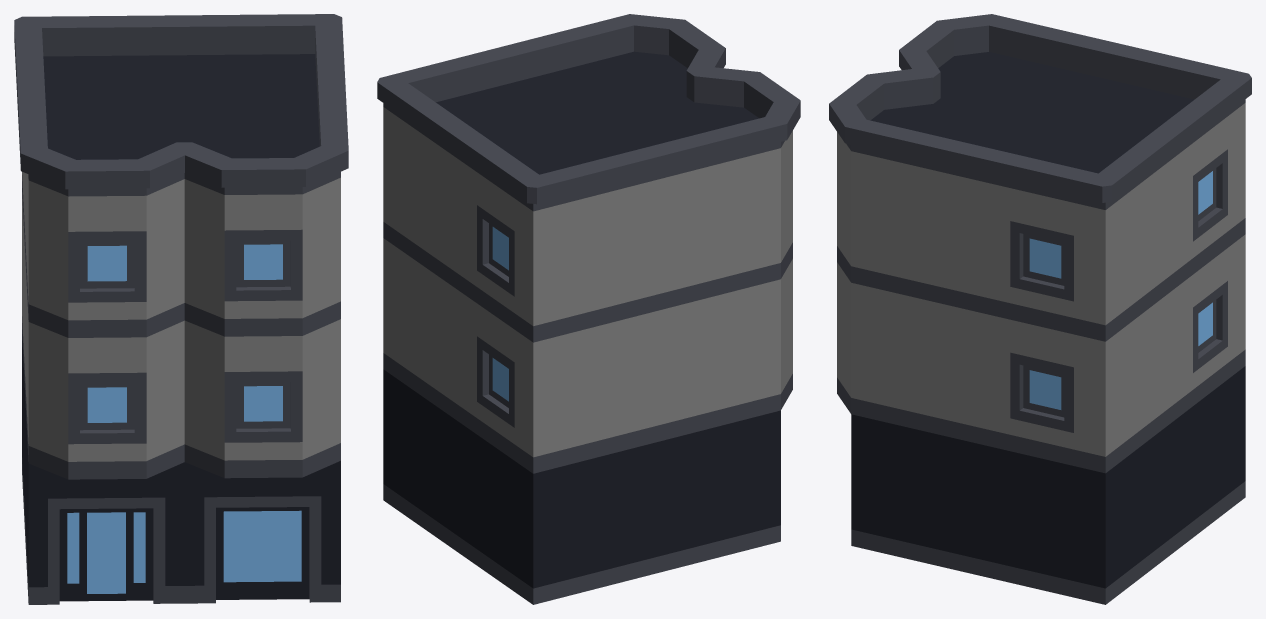
File: variant_21.obj
The picture shows the model from 3 angles, left to right: view 1: azimuth 30°, elevation 25°; view 2: azimuth 150°, elevation 25°; view 3: azimuth 270°, elevation 25°; orthographic projection. The views are drawn at different scales.
Visible parts, largest first — view 1: small_buildingA; view 2: small_buildingA; view 3: small_buildingA.
Boxes of the visible parts, <box> form: small_buildingA: <box>14,14,348,604</box>; small_buildingA: <box>377,14,800,604</box>; small_buildingA: <box>829,14,1251,604</box>.
Size of the model in its own units: 1.13 by 1.28 by 1.16.
